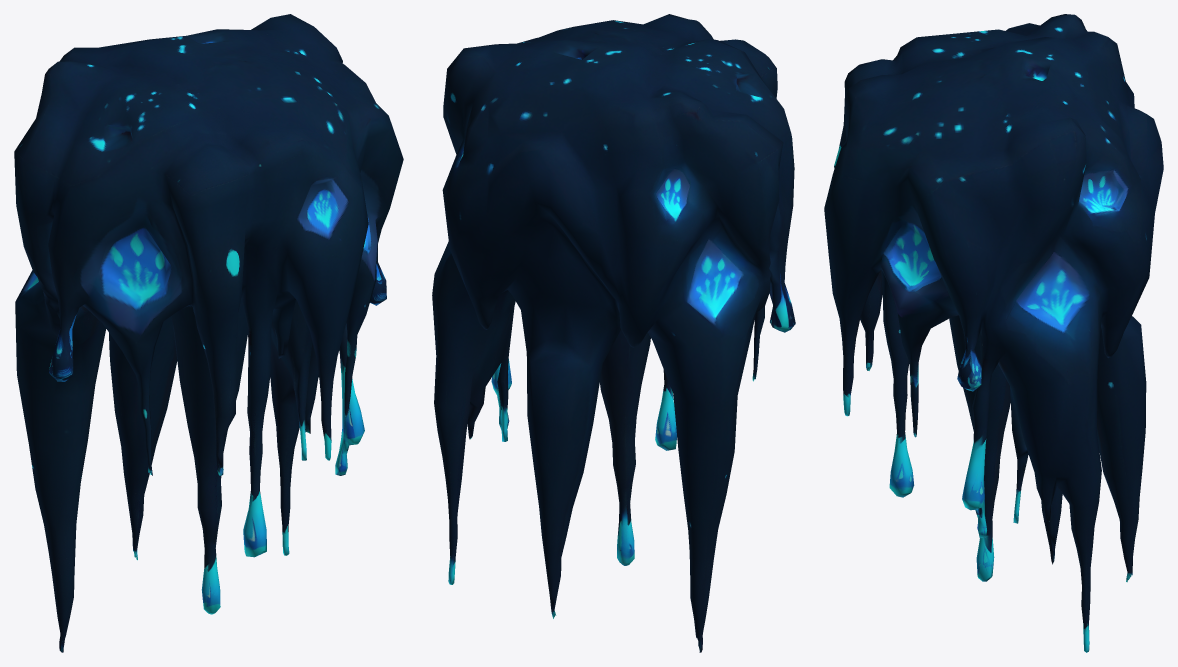
Rendered from z3_stalactite.glb.
3 views of the same model, side by side, from view 1: azimuth 30°, elevation 25°; view 2: azimuth 150°, elevation 25°; view 3: azimuth 270°, elevation 25° (orthographic). The views are drawn at different scales.
Size of the model in its own units: 1.09 by 1.78 by 0.9744.
Materials: 1 (1 with a texture image).
